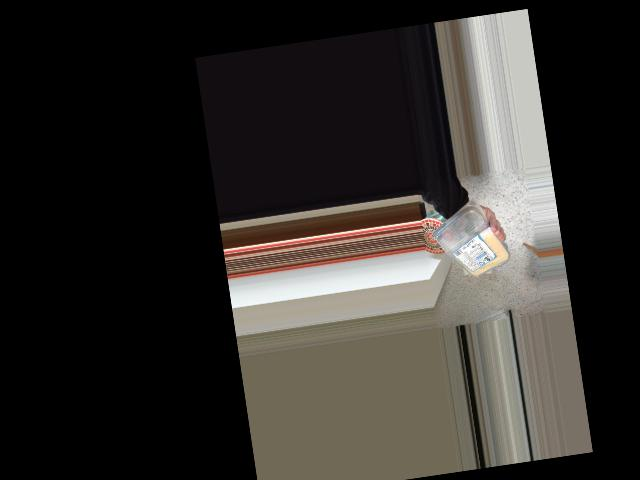cheese: (432, 207, 503, 284)
